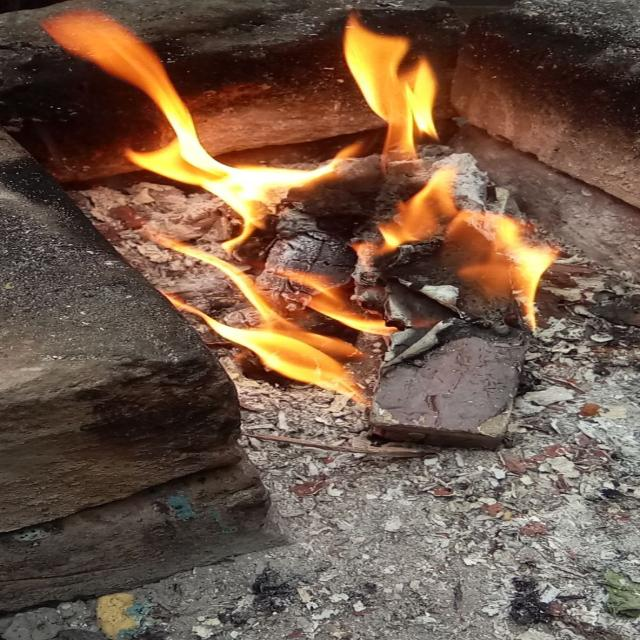fire: (44, 8, 340, 249), (148, 231, 385, 405), (343, 10, 439, 166), (451, 207, 559, 328)
